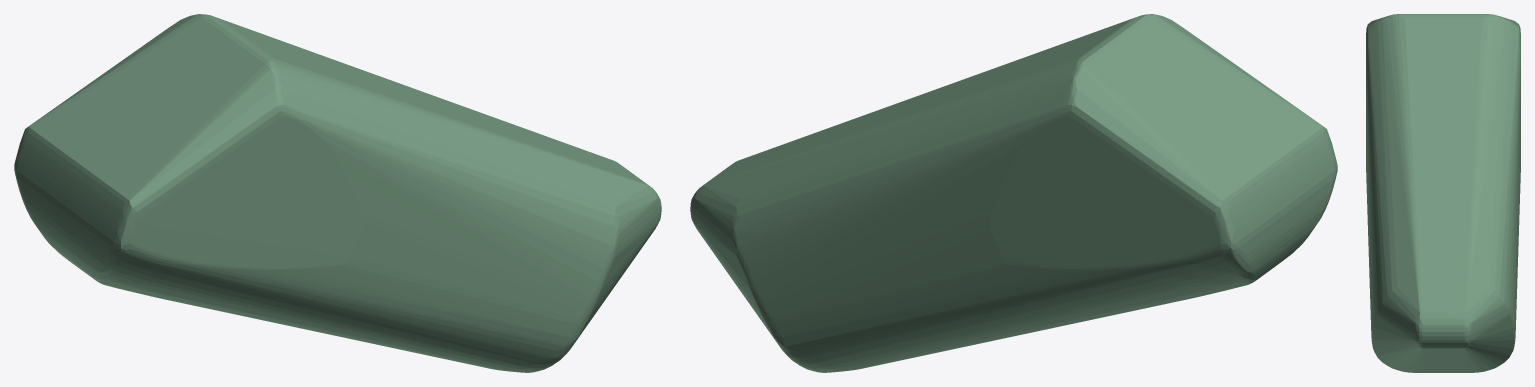
The picture shows the model from 3 angles, left to right: view 1: azimuth 30°, elevation 25°; view 2: azimuth 150°, elevation 25°; view 3: azimuth 270°, elevation 25°; orthographic projection. The views are drawn at different scales.
Parts seen in each view (by area): view 1: geometry_0; view 2: geometry_0; view 3: geometry_0.
Part boxes in pixels (left/top/right/bottom): geometry_0: left=14, top=14, right=661, bottom=372; geometry_0: left=690, top=14, right=1337, bottom=372; geometry_0: left=1366, top=14, right=1520, bottom=372.
Size of the model in its own units: 0.0662 by 0.0414 by 0.0217.
